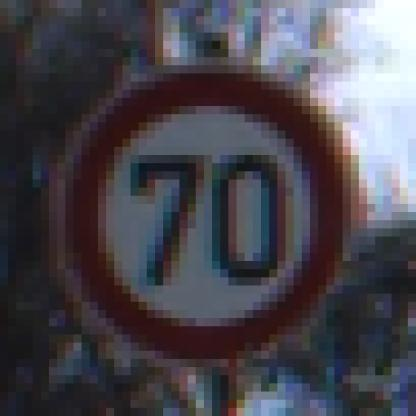Speed Limit 70: (60, 61, 354, 359)
